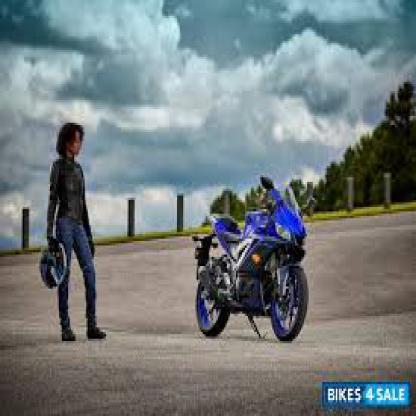Motorcycle: (187, 172, 315, 352)
